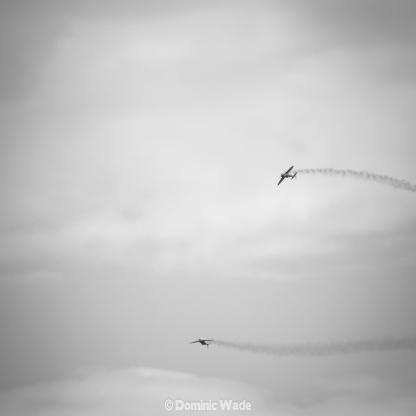aircraft: (277, 166, 298, 186), (191, 338, 213, 346)
